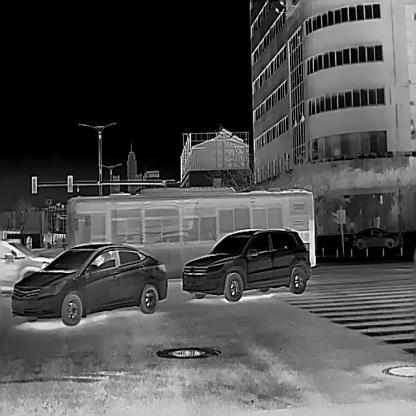car: (59, 186, 316, 279), (11, 242, 167, 325), (181, 228, 311, 302), (0, 238, 54, 298), (352, 226, 403, 248)
